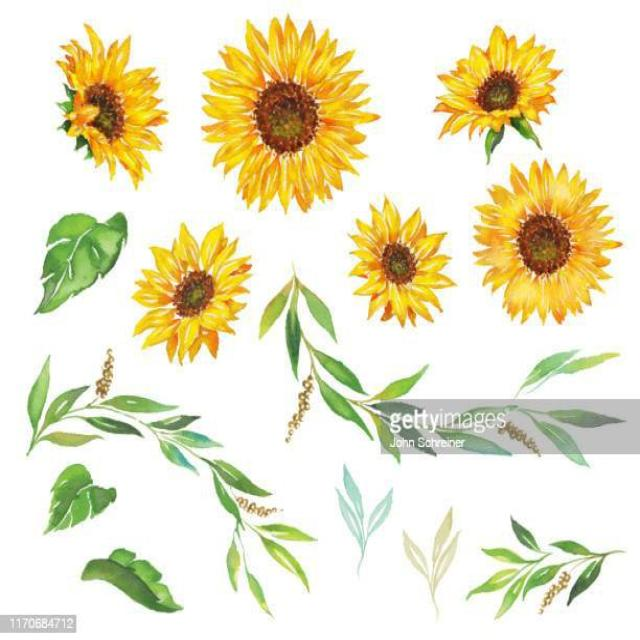sunflower: (200, 12, 380, 213), (472, 159, 623, 325), (54, 22, 168, 188), (131, 220, 252, 364), (432, 24, 563, 140), (347, 200, 456, 327)
